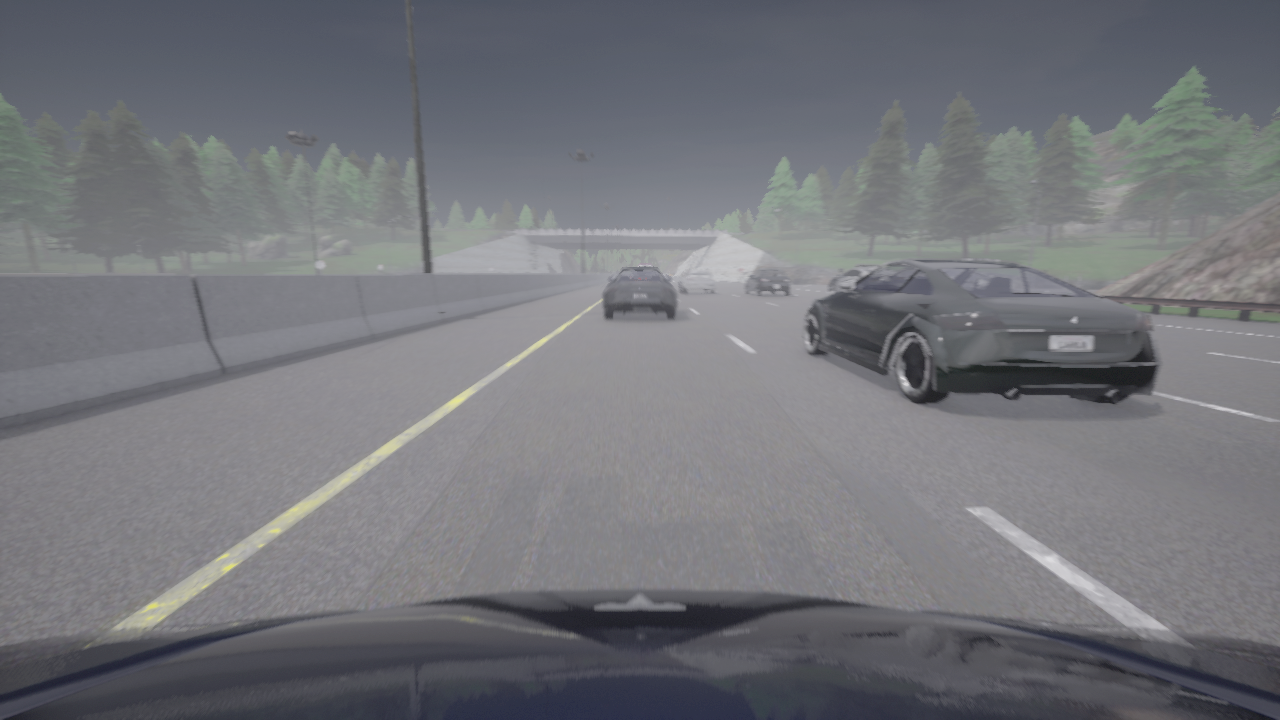cyclist: (0, 588, 1279, 719), (802, 258, 1160, 403), (603, 267, 676, 318), (829, 264, 879, 293), (744, 268, 790, 296), (678, 269, 716, 293)
